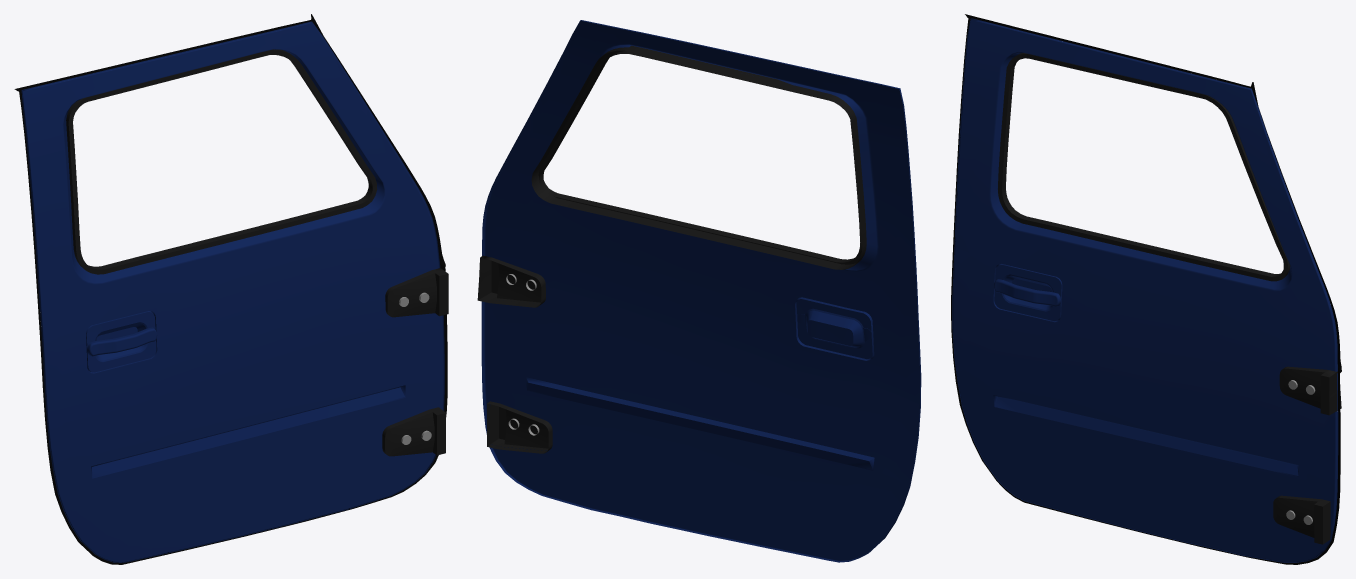
3 renders of one model, left to right at view 1: azimuth 30°, elevation 25°; view 2: azimuth 150°, elevation 25°; view 3: azimuth 330°, elevation 25°, orthographic. The views are drawn at different scales.
Visible parts, largest first — view 1: J715_8A_281B_R_1_DaS_J715_8A_281B_R, J715_8A_281B_R_J715_8A_281B_R_3_D, J715_8A_281B_R_1_DaS_J715_8A_281B_R_E, J715_8A_281B_R_J715_8A_281B_R_4_D; view 2: J715_8A_281B_R_1_DaS_J715_8A_281B_R, J715_8A_281B_R_J715_8A_281B_R_3_D, J715_8A_281B_R_1_DaS_J715_8A_281B_R_E; view 3: J715_8A_281B_R_1_DaS_J715_8A_281B_R, J715_8A_281B_R_J715_8A_281B_R_3_D, J715_8A_281B_R_1_DaS_J715_8A_281B_R_E, J715_8A_281B_R_J715_8A_281B_R_4_D.
Boxes of the visible parts, x1,y1,x2,y2 form: J715_8A_281B_R_1_DaS_J715_8A_281B_R: (22, 22, 444, 562); J715_8A_281B_R_J715_8A_281B_R_3_D: (66, 49, 448, 456); J715_8A_281B_R_1_DaS_J715_8A_281B_R_E: (21, 21, 405, 553); J715_8A_281B_R_J715_8A_281B_R_4_D: (14, 14, 447, 564); J715_8A_281B_R_1_DaS_J715_8A_281B_R: (482, 21, 920, 561); J715_8A_281B_R_J715_8A_281B_R_3_D: (477, 45, 866, 453); J715_8A_281B_R_1_DaS_J715_8A_281B_R_E: (481, 20, 921, 562); J715_8A_281B_R_1_DaS_J715_8A_281B_R: (952, 19, 1337, 562); J715_8A_281B_R_J715_8A_281B_R_3_D: (998, 53, 1341, 544); J715_8A_281B_R_1_DaS_J715_8A_281B_R_E: (971, 18, 1338, 554); J715_8A_281B_R_J715_8A_281B_R_4_D: (951, 14, 1341, 564).
Size of the model in its own units: 109 by 122 by 14.76.
